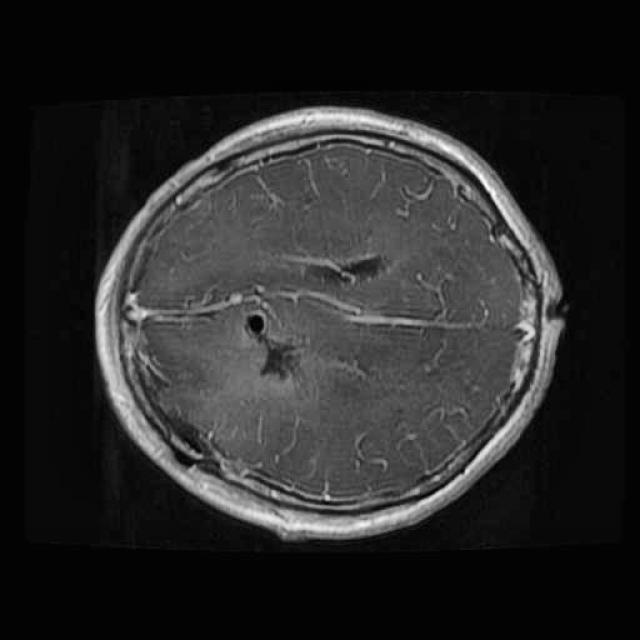Tumor: (224, 300, 310, 386)
